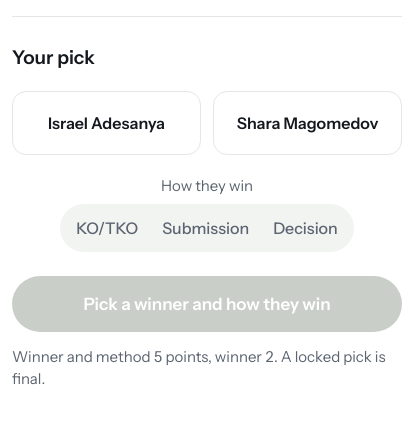
it: submit failures › keeps the choice and the controls on a 429, and shows nothing as saved
Expected: the element named "Pick a winner" is shown, [12,91,402,155]
Step 1. Click the button "Shara Magomedov" → point(308, 123), box [213,91,402,155]
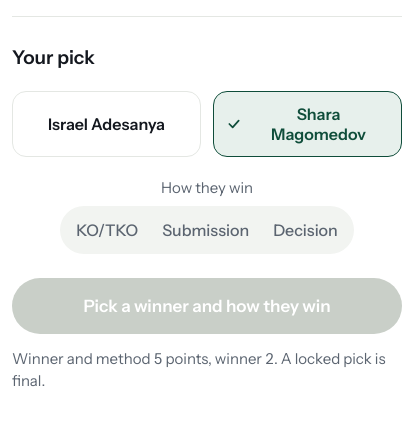
Step 2. Click the button "Decision" → point(305, 230), box [261,210,350,250]
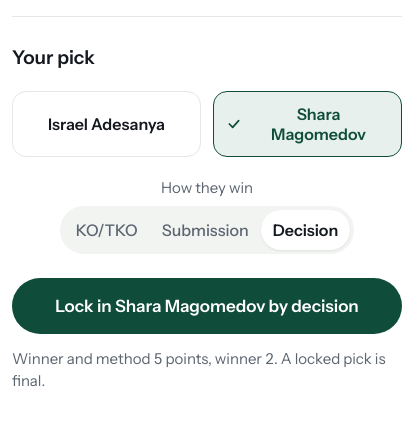
Step 3. Click the button "Lock in Shara Magomedov by decision" → point(207, 306), box [12,278,402,334]
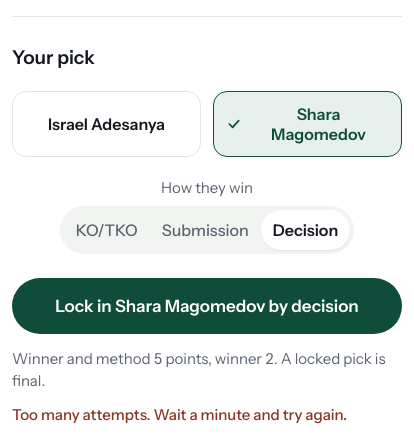
Result: the button "Lock in Shara Magomedov by decision" is enabled at [12,278,402,334]
Result: the message reads "Too many attempts. Wait a minute and try again." at [12,405,347,424]
